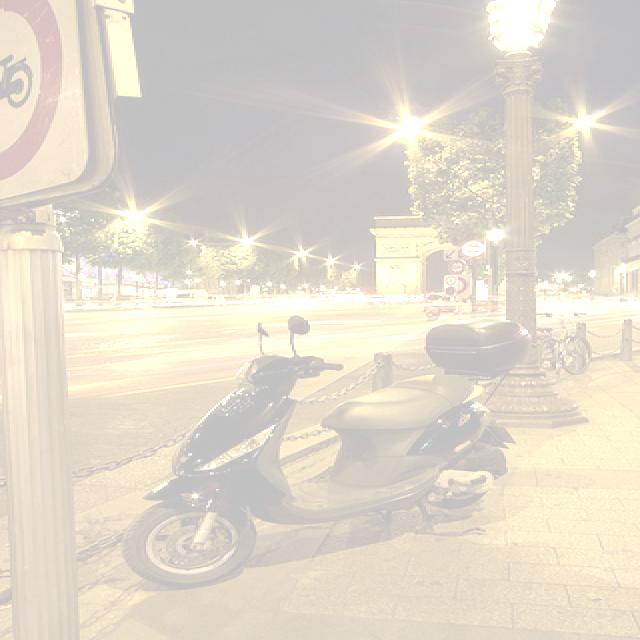Motorbike: (120, 310, 520, 587)
